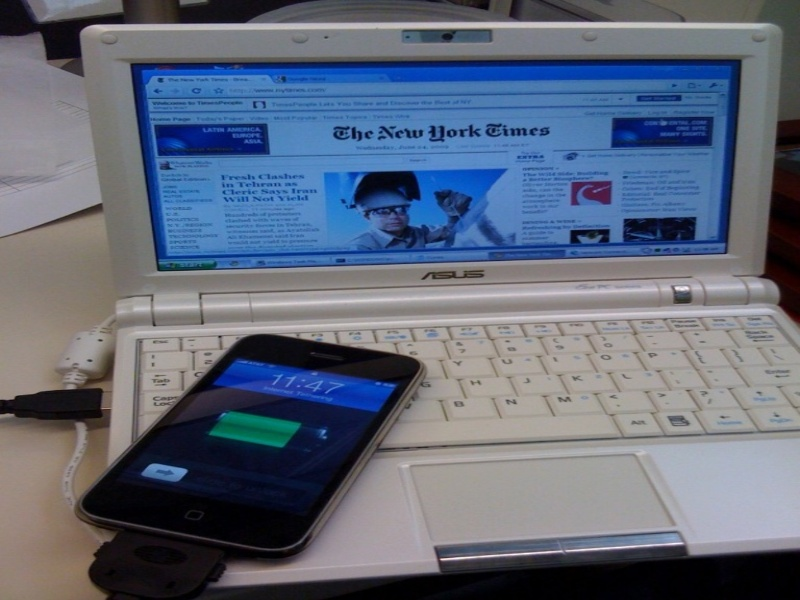cellphone: (81, 315, 435, 578)
